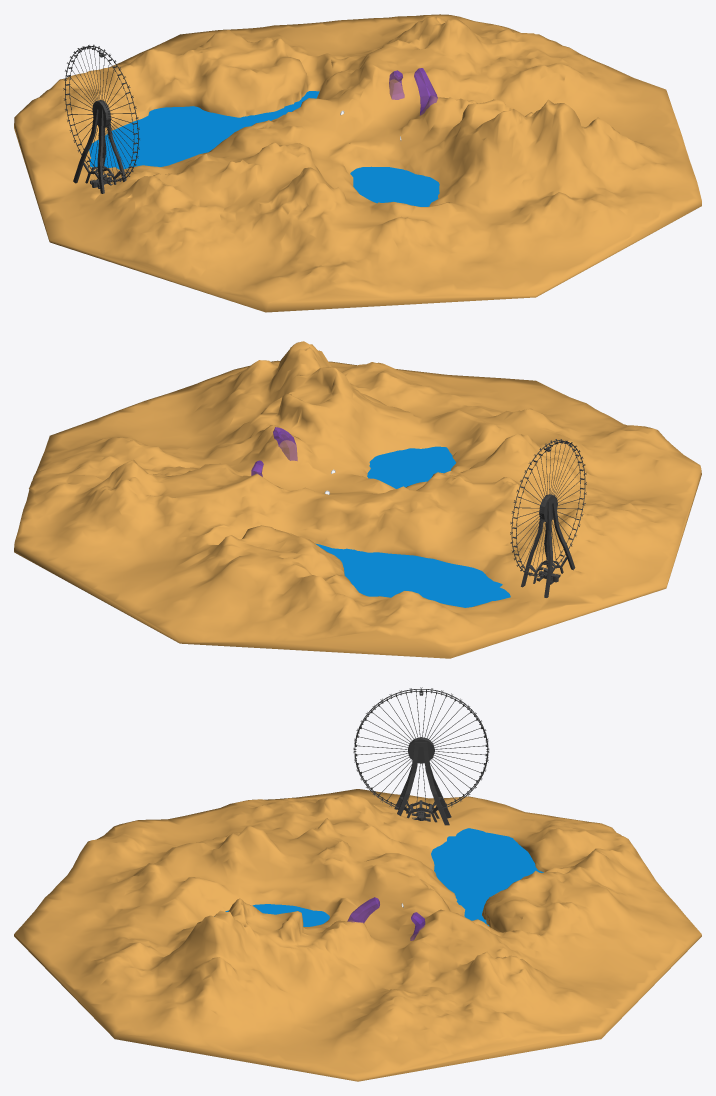
The model's file is lobby_deleted16.glb.
The picture shows the model from 3 angles, top to bottom: view 1: azimuth 30°, elevation 25°; view 2: azimuth 150°, elevation 25°; view 3: azimuth 270°, elevation 25°; orthographic projection. The views are drawn at different scales.
Visible parts, largest first — view 1: Landscape, ocean 01, wheel, ocean 02, Object_184.001, Object_20.001; view 2: Landscape, ocean 01, wheel, ocean 02, Object_184.001, Object_20.001; view 3: Landscape, ocean 01, wheel, Object_184.001, ocean 02, Object_20.001.
Boxes of the visible parts, bbox=[...] form: Landscape: bbox=[14, 14, 701, 312]; ocean 01: bbox=[89, 91, 319, 169]; wheel: bbox=[63, 44, 139, 183]; ocean 02: bbox=[350, 166, 439, 206]; Object_184.001: bbox=[73, 103, 126, 193]; Object_20.001: bbox=[389, 68, 437, 115]; Landscape: bbox=[14, 341, 701, 658]; ocean 01: bbox=[315, 543, 510, 607]; wheel: bbox=[510, 439, 586, 577]; ocean 02: bbox=[367, 446, 456, 488]; Object_184.001: bbox=[521, 497, 575, 597]; Object_20.001: bbox=[251, 427, 297, 476]; Landscape: bbox=[14, 789, 701, 1081]; ocean 01: bbox=[431, 828, 543, 926]; wheel: bbox=[353, 687, 489, 813]; Object_184.001: bbox=[394, 742, 451, 825]; ocean 02: bbox=[225, 904, 329, 926]; Object_20.001: bbox=[347, 897, 425, 940].
Size of the model in its own units: 490 by 143 by 490.
